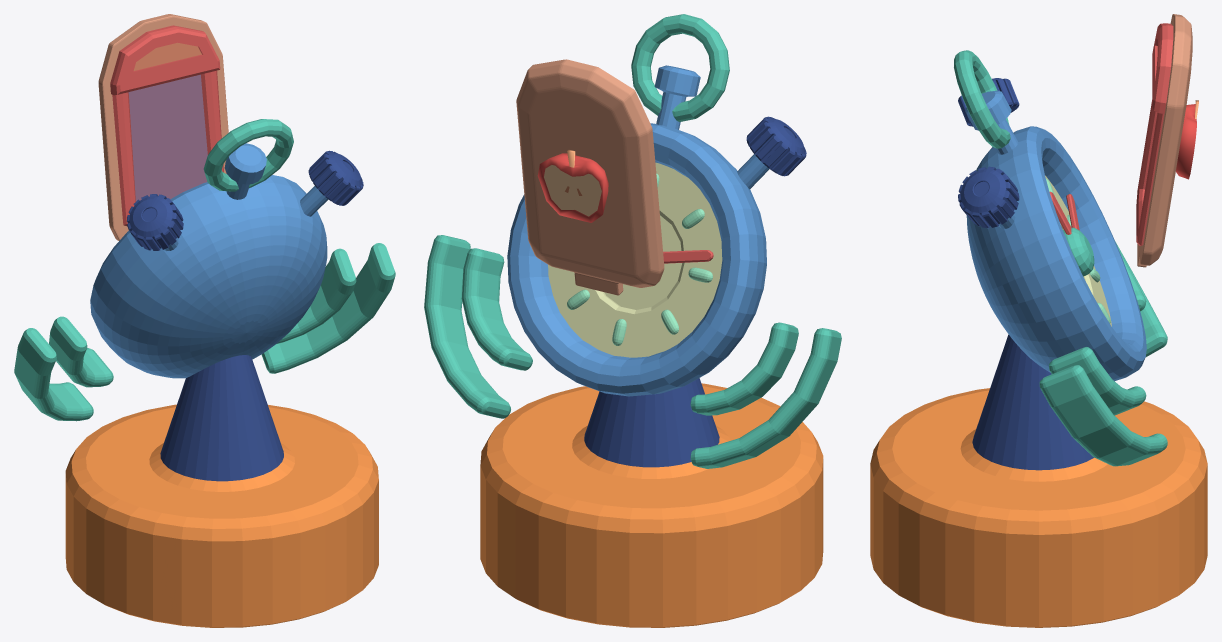
File: 532_anothertime.fbx
The picture shows the model from 3 angles, left to right: view 1: azimuth 30°, elevation 25°; view 2: azimuth 150°, elevation 25°; view 3: azimuth 270°, elevation 25°; orthographic projection. The views are drawn at different scales.
Visible parts, largest first — view 1: base.003, clockbody, phone_screen.002, viberate2.001, vibrate1.001, ring.001; view 2: base.003, clockbody, phone_screen.002, viberate2.001, vibrate1.001, ring.001, pointer2.001; view 3: base.003, clockbody, phone_screen.002, viberate2.001, vibrate1.001, ring.001.
Part boxes in pixels (x1,y1,x2,y2): base.003: (65,355,378,627); clockbody: (90,143,363,378); phone_screen.002: (98,14,228,240); viberate2.001: (14,243,395,421); vibrate1.001: (49,248,356,387); ring.001: (203,119,293,191); base.003: (480,378,823,627); clockbody: (507,65,806,396); phone_screen.002: (516,59,664,295); viberate2.001: (424,235,841,468); vibrate1.001: (461,248,798,415); ring.001: (631,14,729,121); pointer2.001: (663,250,713,263); base.003: (870,334,1207,627); clockbody: (958,78,1146,381); phone_screen.002: (1136,14,1198,267); viberate2.001: (1039,241,1167,466); vibrate1.001: (1049,249,1146,415); ring.001: (954,50,1010,148).
Bounding box in the file's own units: 491 × 678 × 366.
